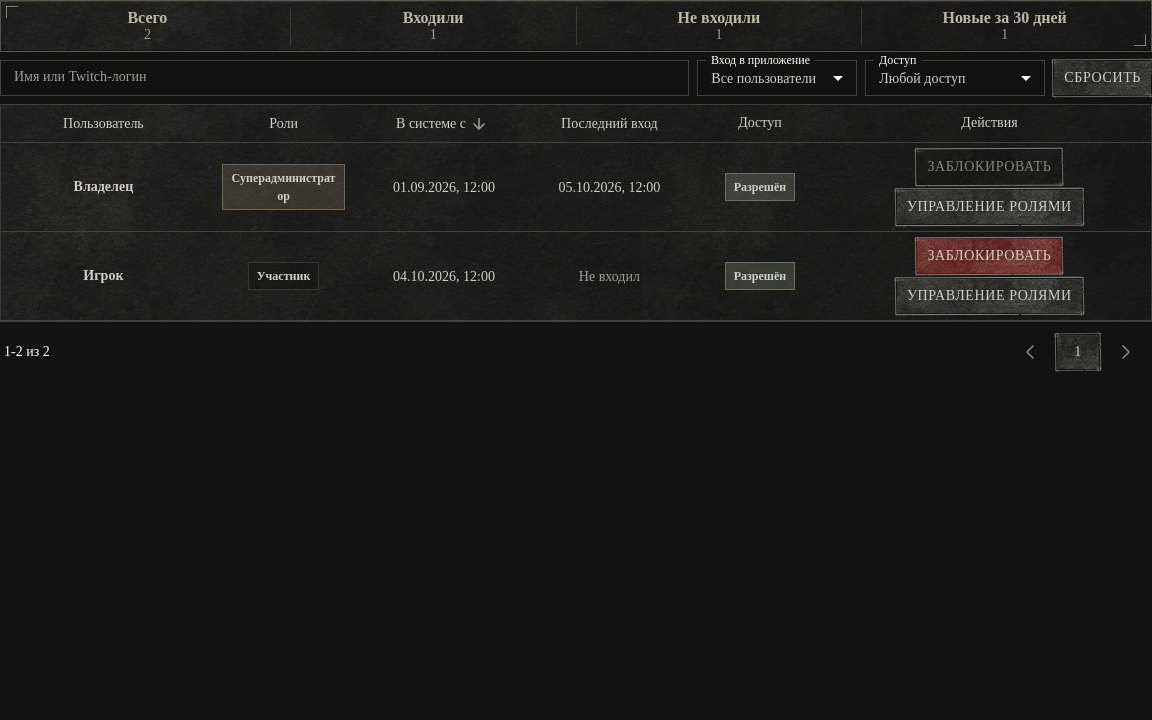
Test: RoleAdministrationPage › confirms blocking, protects owner and self, and keeps saved access when refresh fails
The width and height of the screenshot is (1152, 720).
Expected: the button with aria-label "Заблокировать: Владелец" is disabled, top-left (916, 149), bottom-right (1062, 185)
Click the button with aria-label "Заблокировать: Игрок": (989, 256) top-left (916, 238), bottom-right (1062, 274)
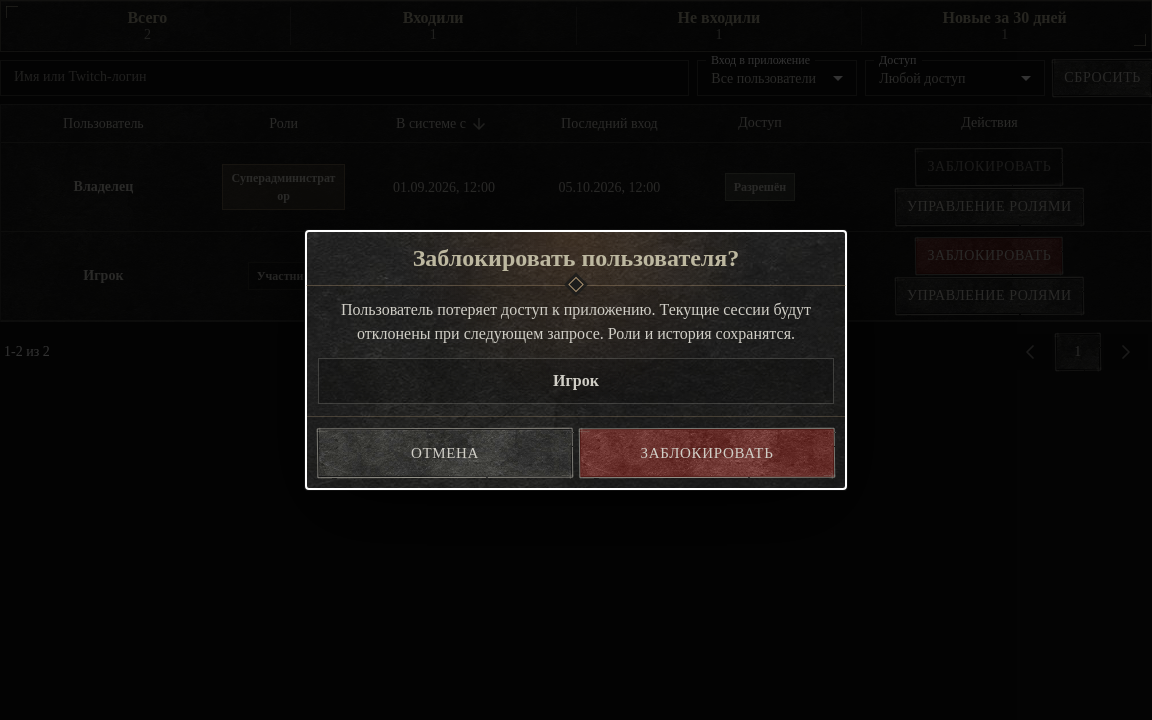
Click the button "Заблокировать": (707, 453) top-left (580, 429), bottom-right (834, 477)
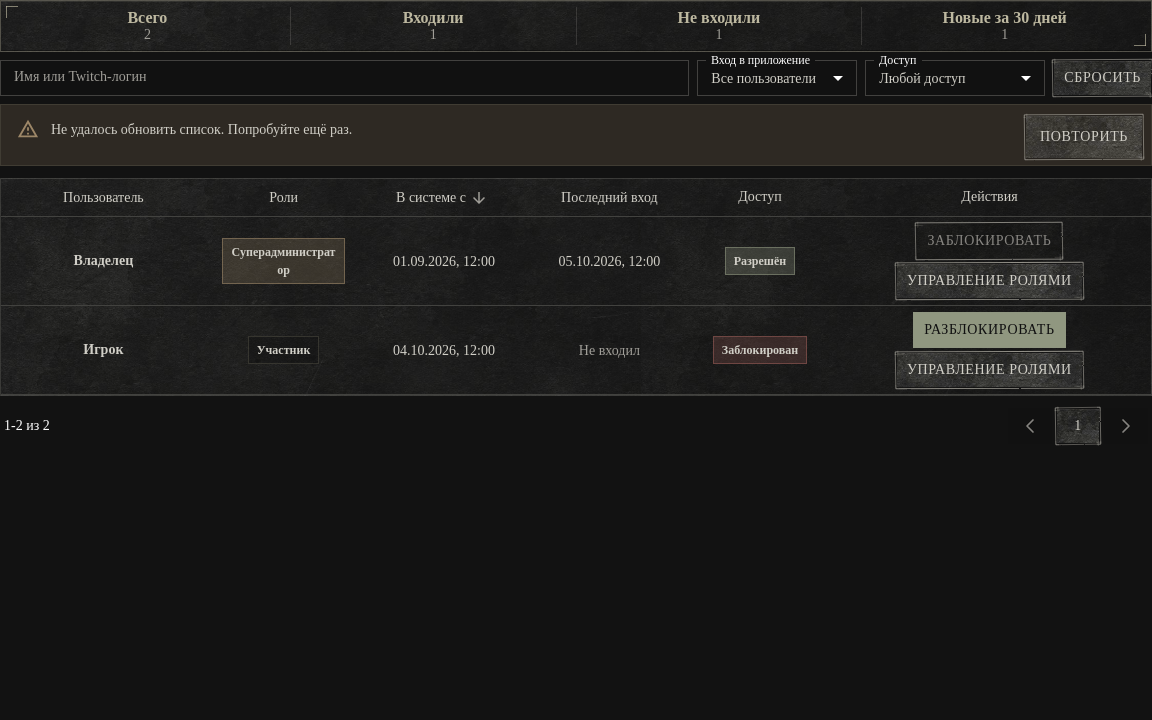
Expected: the dialog is gone
Expected: the text "Заблокирован" is shown, top-left (722, 343), bottom-right (798, 357)
Click the button with aria-label "Разблокировать: Игрок": (989, 330) top-left (913, 312), bottom-right (1066, 348)
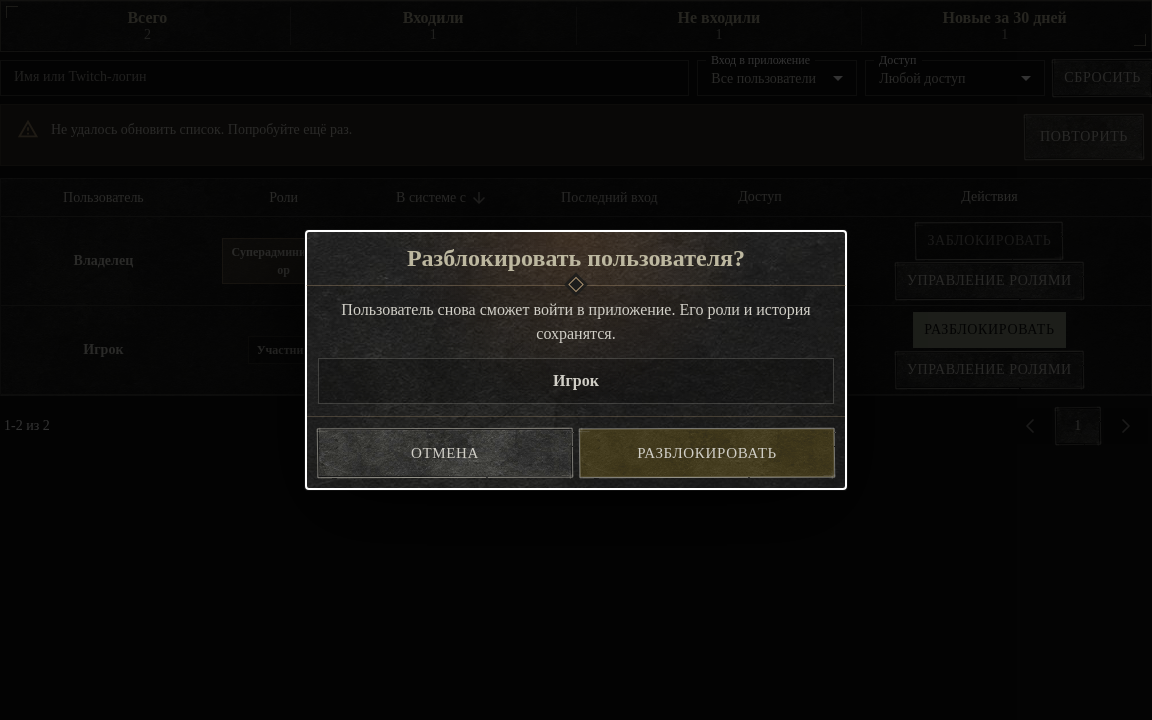
Click the button "Разблокировать": (707, 453) top-left (580, 429), bottom-right (834, 477)
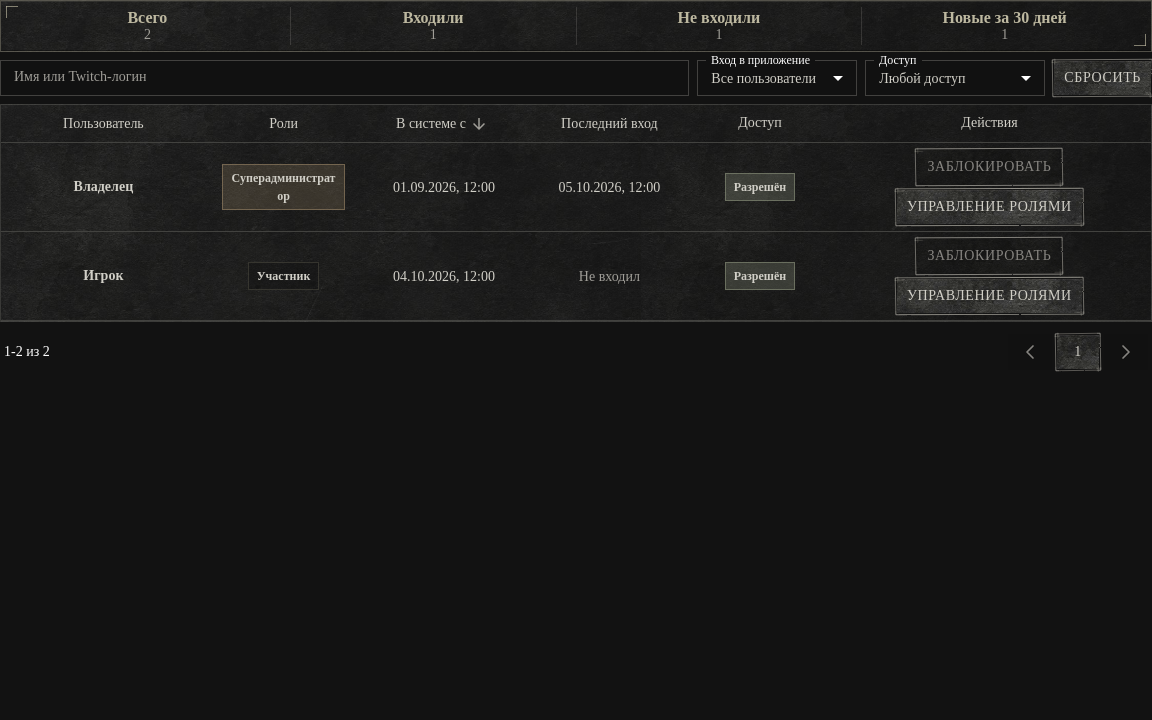
Expected: the dialog is gone
Expected: the button with aria-label "Заблокировать: Игрок" is disabled, top-left (916, 238), bottom-right (1062, 274)
